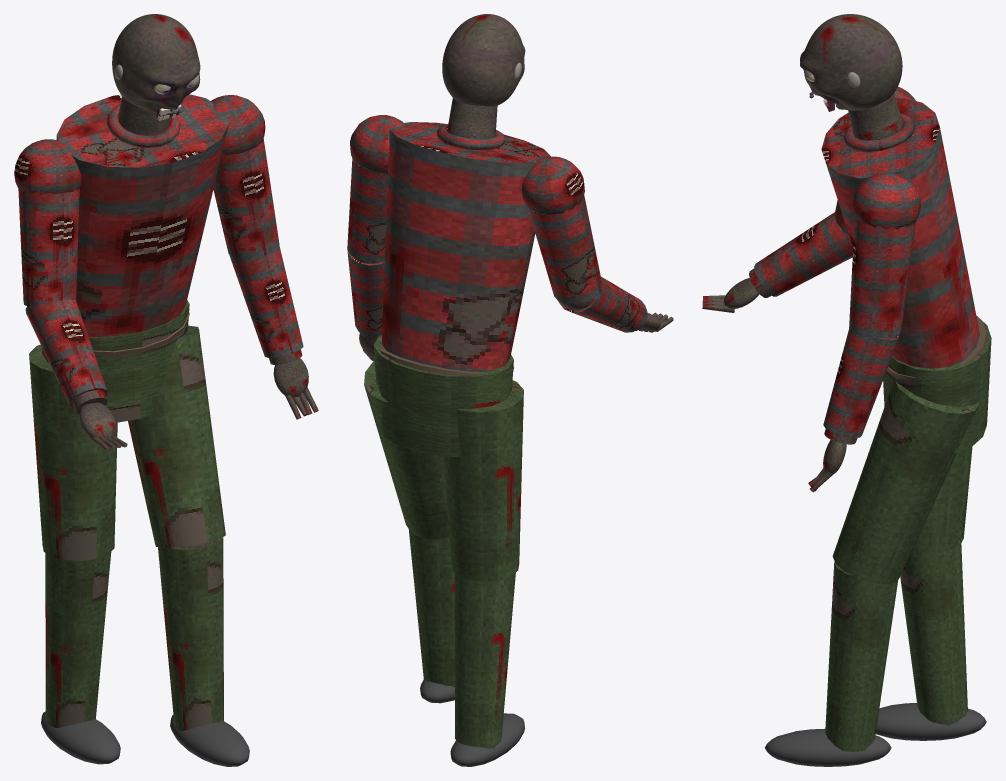
Rendered from Zombie_097.glb.
3 renders of one model, left to right at view 1: azimuth 30°, elevation 25°; view 2: azimuth 150°, elevation 25°; view 3: azimuth 270°, elevation 25°, orthographic. The views are drawn at different scales.
Parts seen in each view (by area): view 1: Zombie_097, object 18, object 12, object 4, object 5, object 13; view 2: Zombie_097, object 18, object 12, object 4; view 3: Zombie_097, object 18, object 12, object 4, object 5, object 13.
Boxes of the visible parts, x1=… form: Zombie_097: x1=14, y1=94, x2=279, y2=766; object 18: x1=112, y1=14, x2=200, y2=113; object 12: x1=229, y1=245, x2=303, y2=357; object 4: x1=25, y1=299, x2=107, y2=408; object 5: x1=79, y1=402, x2=115, y2=439; object 13: x1=273, y1=358, x2=308, y2=397; Zombie_097: x1=347, y1=98, x2=601, y2=766; object 18: x1=442, y1=14, x2=525, y2=106; object 12: x1=347, y1=251, x2=384, y2=336; object 4: x1=558, y1=276, x2=646, y2=332; Zombie_097: x1=765, y1=86, x2=991, y2=766; object 18: x1=800, y1=14, x2=902, y2=110; object 12: x1=823, y1=328, x2=899, y2=437; object 4: x1=754, y1=212, x2=853, y2=296; object 5: x1=723, y1=278, x2=759, y2=308; object 13: x1=823, y1=440, x2=846, y2=474.
Size of the model in its own units: 0.7348 by 1.94 by 0.6872.
15 materials, 5 textured.
